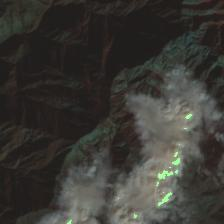landslides: (164, 53, 178, 65), (183, 0, 211, 5)
